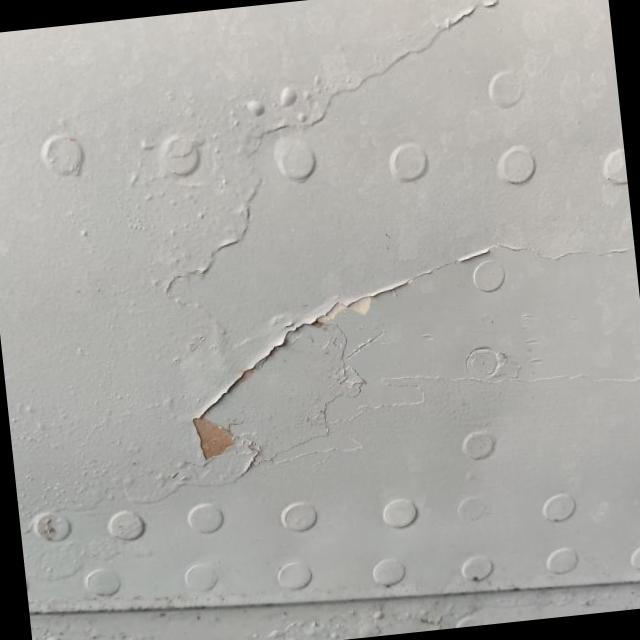Paint-off: (187, 413, 262, 477)
